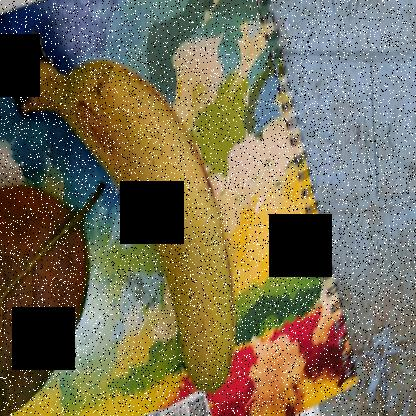ripe: (57, 54, 244, 393)
